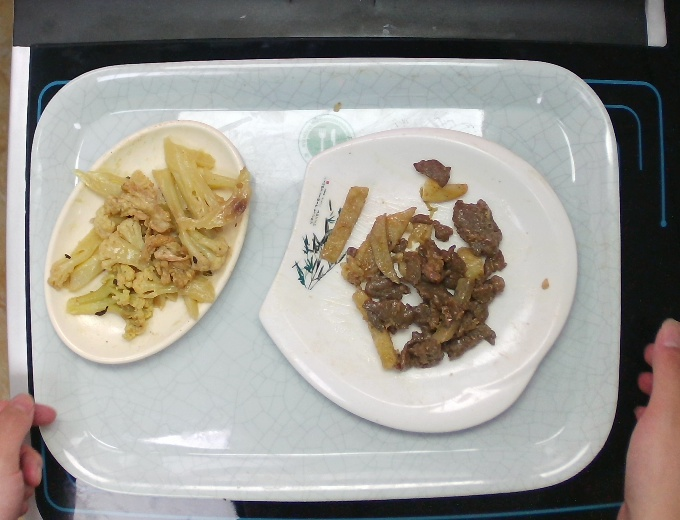JYsf-Mian_Pan: (256, 124, 580, 435)
JYsf-Tuo_Yuan_Wan: (41, 118, 252, 367)
